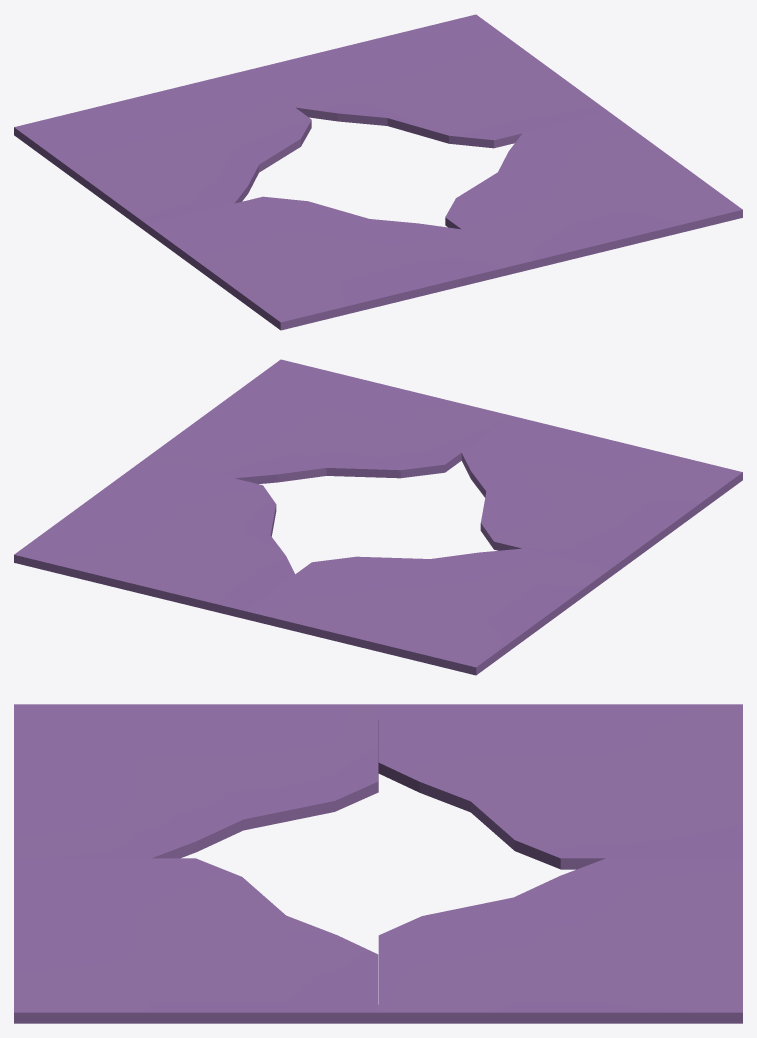
Rendered from Floor_Break_03A_Lod0.fbx.
The picture shows the model from 3 angles, top to bottom: view 1: azimuth 30°, elevation 25°; view 2: azimuth 150°, elevation 25°; view 3: azimuth 270°, elevation 25°; orthographic projection. The views are drawn at different scales.
Parts seen in each view (by area): view 1: Floor_Break_03A_Lod0; view 2: Floor_Break_03A_Lod0; view 3: Floor_Break_03A_Lod0.
Part boxes in pixels (bbox=[...]): Floor_Break_03A_Lod0: bbox=[14, 14, 742, 330]; Floor_Break_03A_Lod0: bbox=[14, 359, 742, 675]; Floor_Break_03A_Lod0: bbox=[14, 704, 742, 1023].
Bounding box in the file's own units: 600 × 10.26 × 600.
